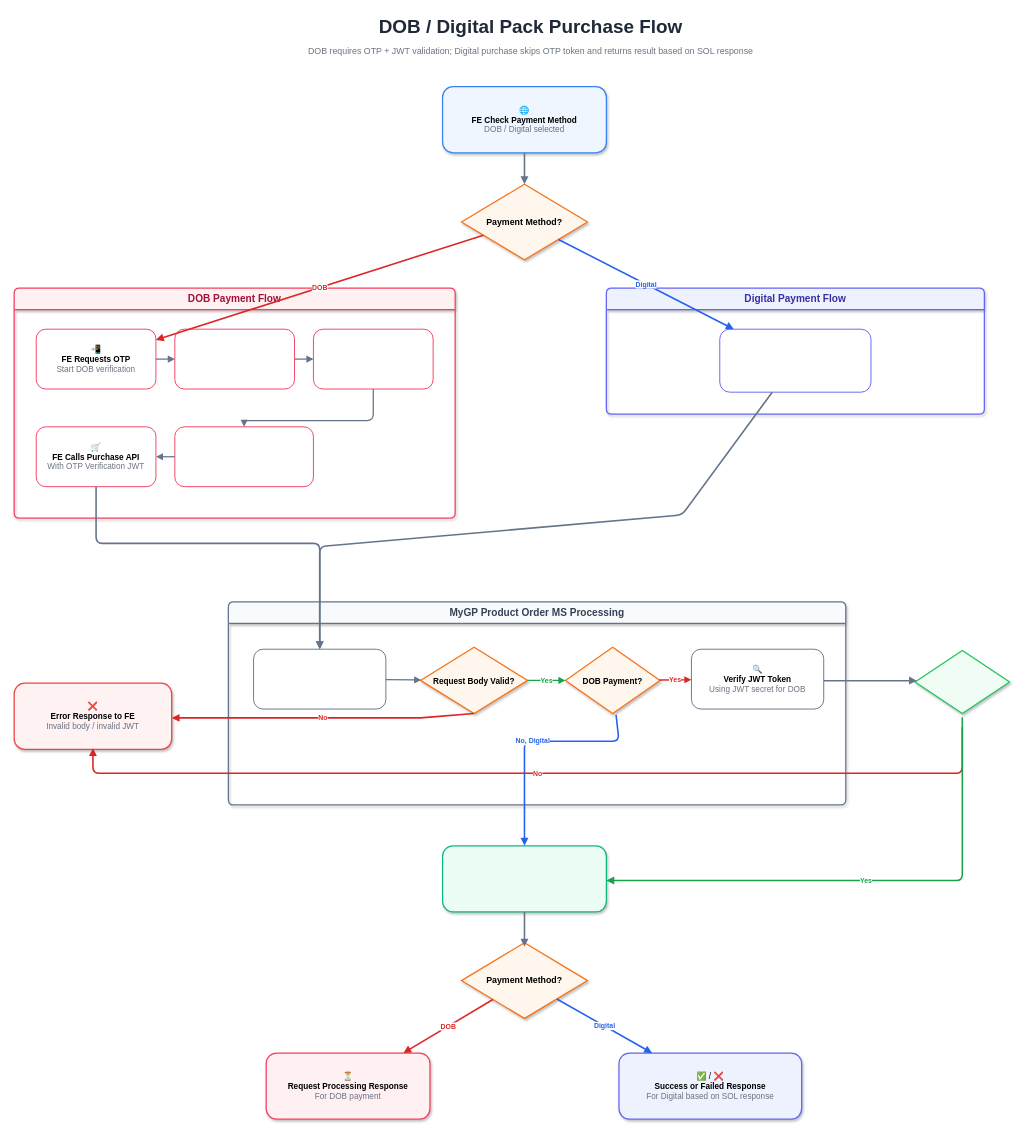
Image size: 1024x1135. Some labels were removed from this diagram. The shapes that lost their labels are listed below. From the top down, each one's centre as x and y in pixels, then its label:
At (x=234, y=358): "🔐 User Verifies OTP Submit OTP".
At (x=373, y=358): "🧾 MyGP Service Order / OTP Verify API Validate OTP".
At (x=795, y=360): "🛒 FE Calls Purchase API Without OTP Verification JWT Regular / One-tap Digital".
At (x=244, y=456): "🎟️ Return OTP Verification JWT Verification token".
At (x=319, y=678): "📦 Validate Request Body Check required fields".
At (x=963, y=682): "JWT Valid?".
At (x=524, y=879): "🔌 Call SOL Purchase API After validation passes".
